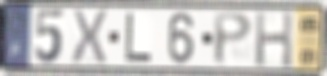5: (33, 7, 68, 66)
6: (167, 11, 197, 66)
H: (254, 10, 294, 70)
L: (123, 11, 154, 65)
P: (211, 11, 254, 68)
X: (70, 7, 109, 67)
